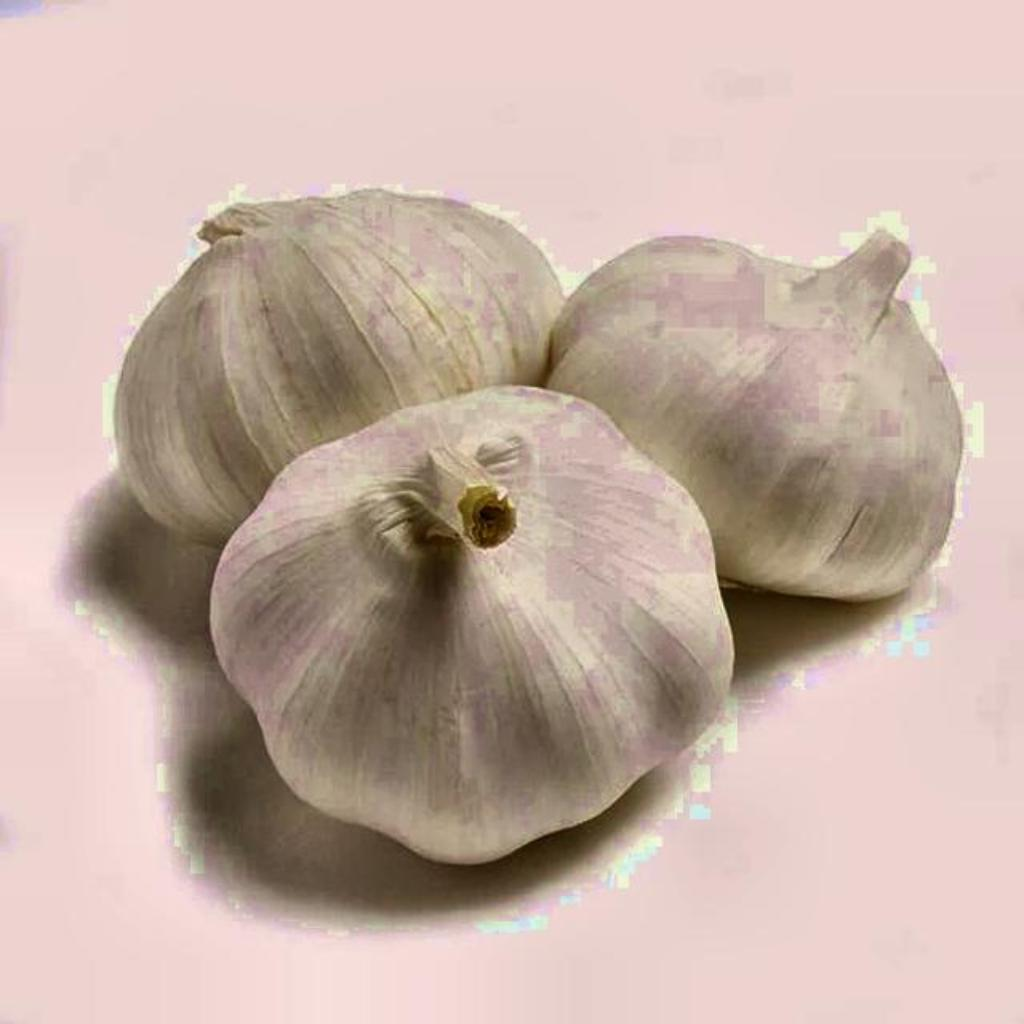garlic: (212, 388, 732, 863), (116, 190, 564, 543), (548, 232, 964, 599)
